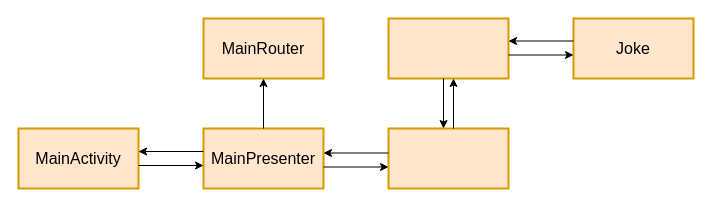
This 711x206 diagram has some shape labels left out. The shapes that lost their labels are listed below. From the top down, each one's centre as x and y in pixels, then its label:
[448,48]: MainRepo
[448,158]: MainInteractor
